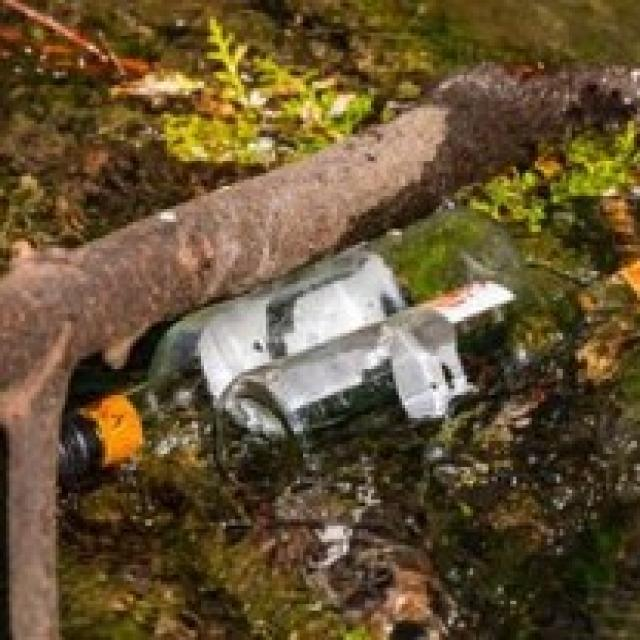electronic: (63, 204, 615, 501)
